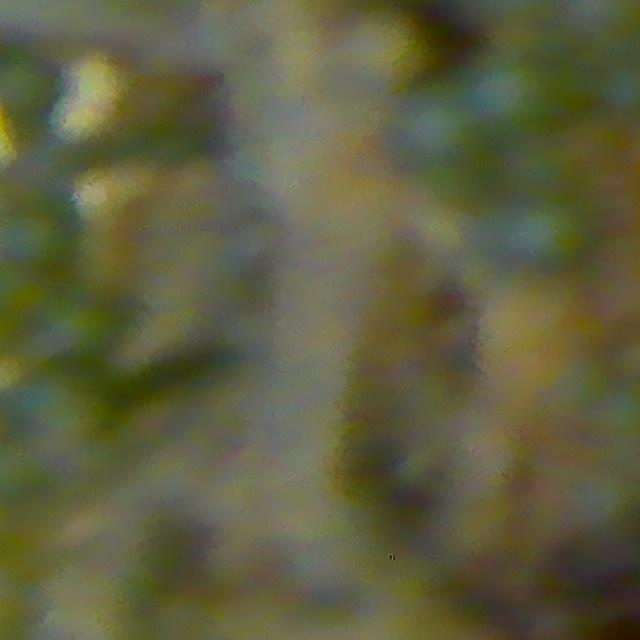SeaGrape: (469, 53, 557, 134), (502, 192, 591, 271), (391, 86, 475, 169), (1, 207, 66, 271), (522, 593, 588, 640)
